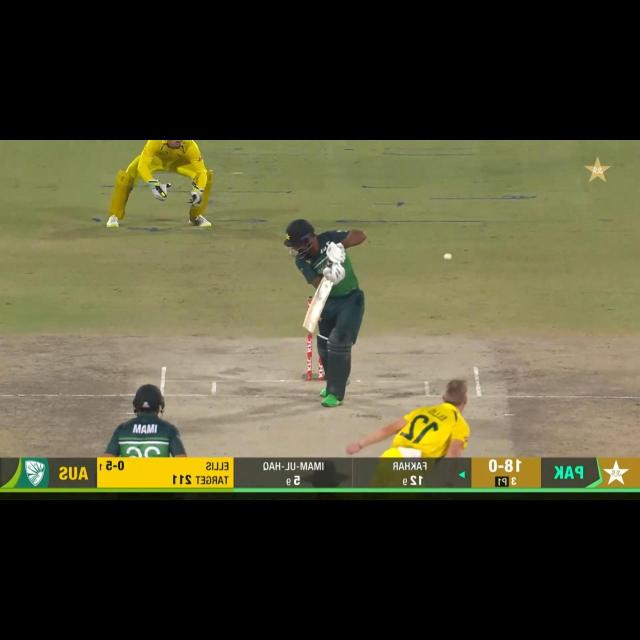bat: (300, 278, 333, 339)
toe: (301, 320, 319, 337)
